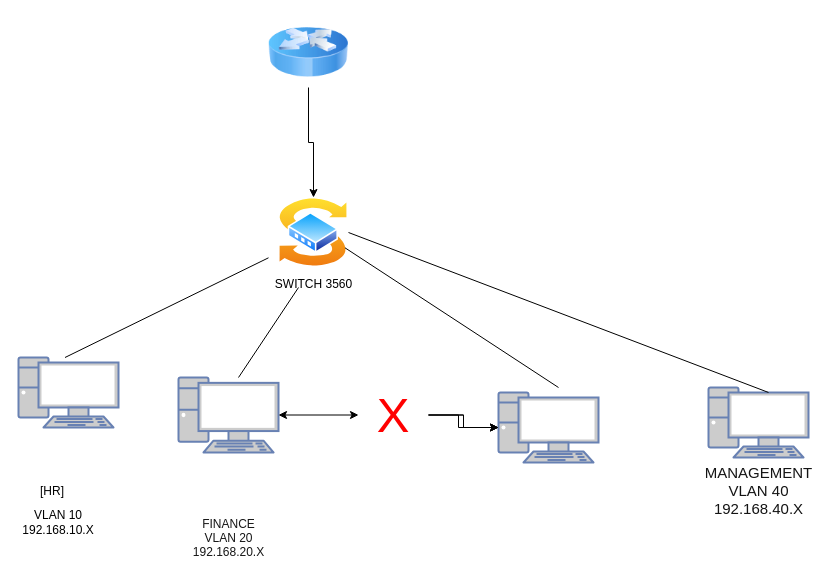
This 829x577 diagram has some shape labels left out. The box of each missing label's shape, as (x1, y1, x2, y2) in pixels:
IT VLAN 30 192.168.30.X: (497, 391, 599, 463)
ROUTER 2911: (268, 17, 348, 87)
